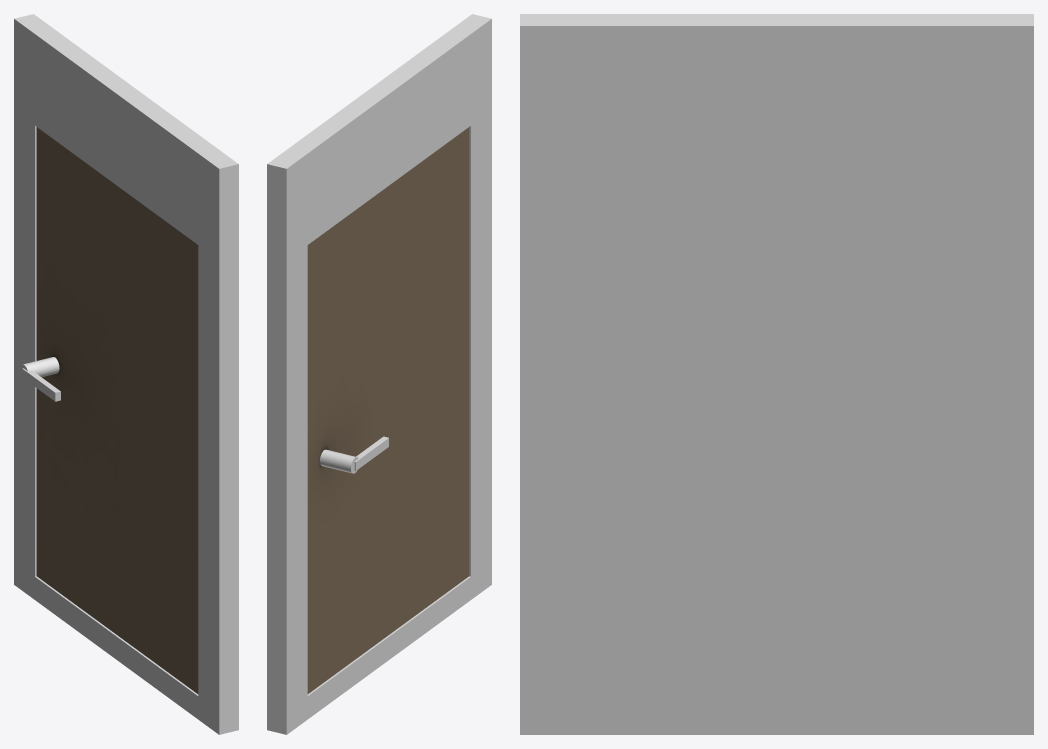
Rendered from door.fbx.
3 renders of one model, left to right at view 1: azimuth 30°, elevation 25°; view 2: azimuth 150°, elevation 25°; view 3: azimuth 270°, elevation 25°, orthographic. The views are drawn at different scales.
Parts seen in each view (by area): view 1: door, Cube.017; view 2: door, Cube.017; view 3: Cube.017.
Boxes of the visible parts, bbox=[...] form: door: bbox=[20, 127, 198, 693]; Cube.017: bbox=[14, 14, 238, 734]; door: bbox=[307, 127, 469, 693]; Cube.017: bbox=[267, 14, 491, 734]; Cube.017: bbox=[520, 14, 1033, 734].
Size of the model in its own units: 8.21 by 88.56 by 58.16.
Materials: 3 (1 with a texture image).
